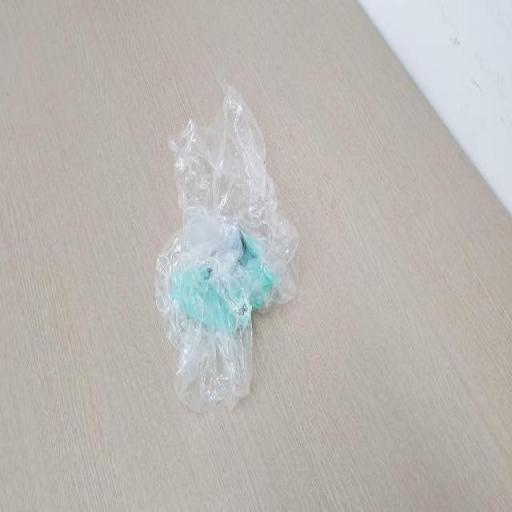plastic-bag: (154, 69, 303, 415)
